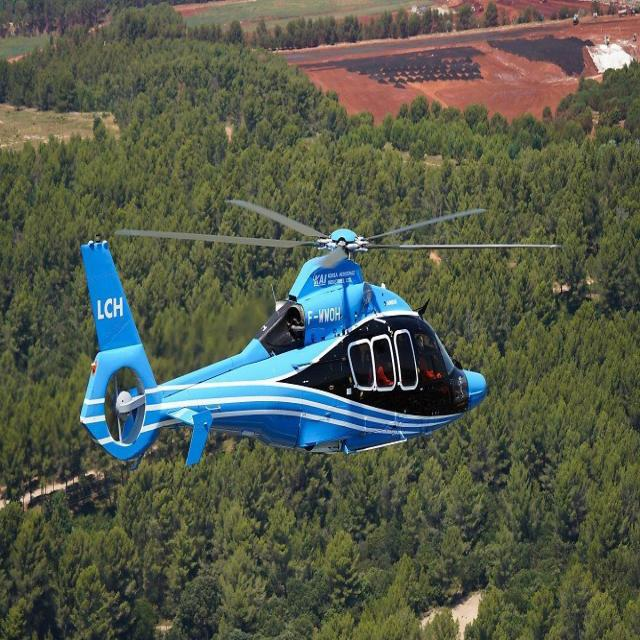MIL_HELO: (69, 184, 562, 515)
